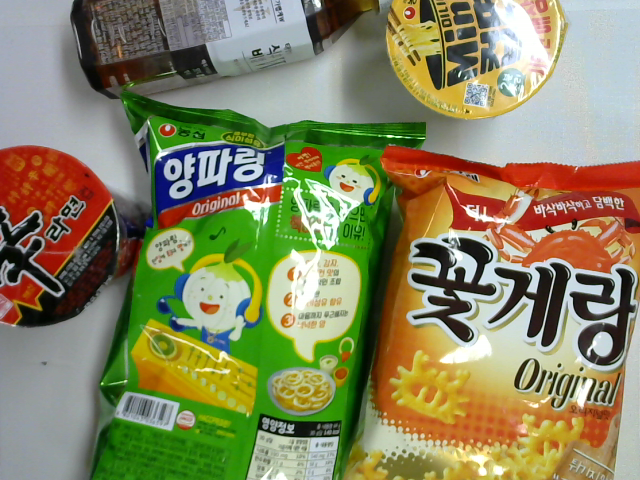Crabrang: (337, 144, 640, 479)
Hejangmini: (383, 1, 571, 123)
Oninon_Ring: (87, 89, 429, 479)
Post-meal_recipe_W_tea_500ml: (69, 1, 391, 101)
Sinramen_small: (1, 142, 155, 330)
